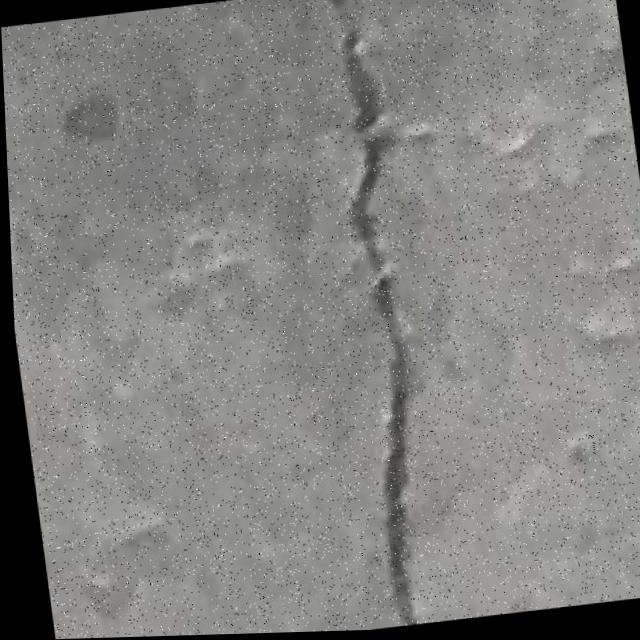Crack: (290, 0, 462, 632)
